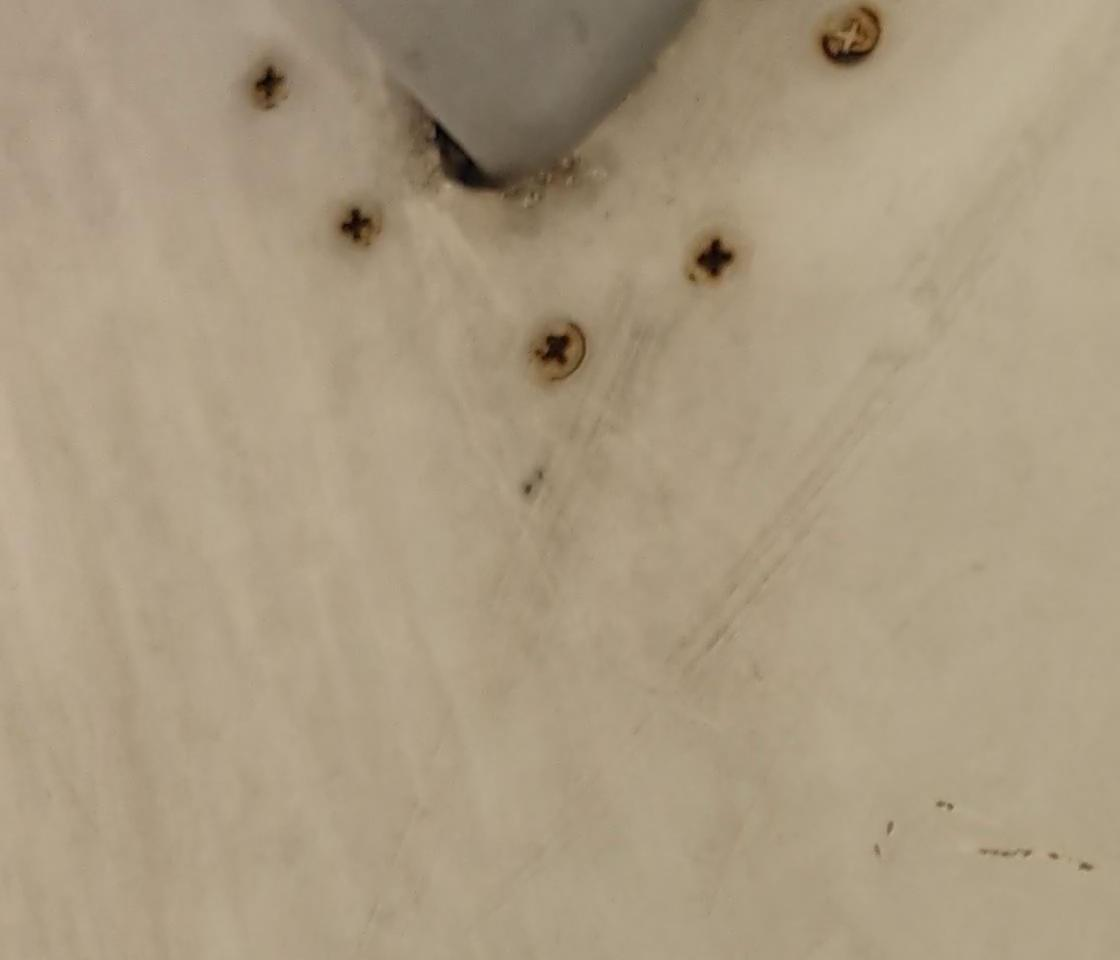rivet_damage: (525, 319, 601, 385), (811, 6, 888, 71), (679, 229, 746, 287), (241, 55, 303, 115), (326, 192, 385, 253)
